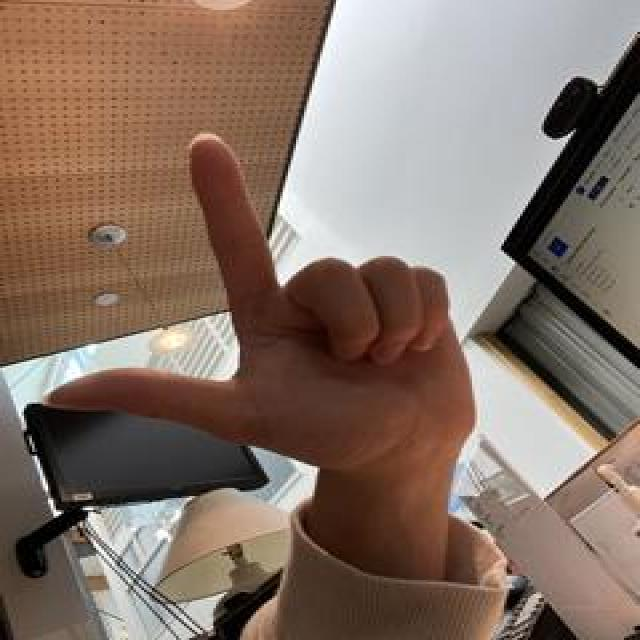L: (0, 68, 491, 564)
